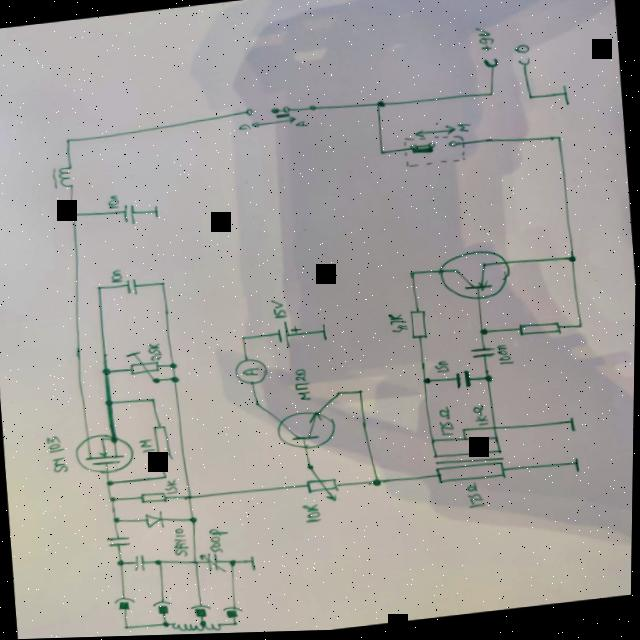capacitor: (199, 551, 231, 579), (453, 370, 475, 393), (120, 203, 137, 227), (469, 348, 496, 362), (107, 535, 132, 549), (132, 554, 148, 573), (124, 277, 138, 297)
crossover: (184, 493, 195, 503), (191, 558, 202, 567), (489, 425, 500, 434)
diode: (144, 510, 166, 532)
ground: (560, 86, 572, 110), (319, 323, 330, 344), (150, 205, 161, 220), (573, 459, 582, 477), (249, 555, 258, 573), (569, 418, 578, 435)
inductor: (50, 164, 74, 191), (170, 619, 205, 636), (203, 622, 224, 634)
junction: (100, 366, 113, 377), (371, 479, 384, 489), (565, 257, 578, 267), (167, 376, 181, 385), (305, 105, 318, 114), (112, 515, 123, 525), (66, 210, 78, 219), (116, 559, 127, 568), (153, 558, 164, 567), (374, 102, 385, 111), (483, 376, 494, 385), (188, 516, 199, 525), (479, 330, 490, 339), (107, 495, 118, 504), (104, 398, 115, 407), (421, 379, 432, 388), (168, 362, 179, 371), (228, 560, 239, 569), (552, 136, 563, 145), (105, 479, 116, 488), (333, 391, 344, 400), (524, 97, 535, 105), (161, 621, 172, 629), (575, 324, 584, 333), (199, 619, 208, 628), (356, 390, 365, 398), (231, 622, 241, 629), (161, 473, 169, 481), (239, 336, 248, 343), (95, 285, 103, 292), (124, 624, 132, 631), (408, 272, 416, 279), (149, 397, 157, 404), (63, 137, 71, 144), (158, 281, 166, 288), (485, 93, 493, 100), (253, 402, 261, 409), (460, 428, 468, 435), (378, 151, 385, 158)
resistor: (304, 463, 341, 507), (125, 348, 162, 387), (517, 320, 564, 343), (149, 423, 176, 463), (406, 309, 433, 345), (139, 490, 168, 505)
source: (275, 320, 304, 350)
switch: (398, 124, 468, 173), (240, 102, 296, 132)
terminal: (481, 57, 500, 73), (515, 60, 532, 71)
text: (44, 433, 72, 475), (463, 483, 489, 514), (436, 405, 459, 440), (292, 368, 313, 404), (171, 527, 191, 559), (208, 526, 230, 555), (473, 27, 495, 55), (300, 502, 324, 527), (494, 344, 516, 371), (266, 299, 290, 323), (431, 356, 454, 379), (386, 313, 408, 337), (471, 406, 492, 429), (105, 193, 123, 212), (138, 437, 157, 454), (146, 342, 162, 361), (108, 269, 125, 286), (164, 480, 179, 495), (454, 124, 471, 135), (513, 46, 530, 57), (235, 124, 252, 133), (293, 121, 310, 130)
transformer: (430, 433, 508, 489)
transistor: (435, 249, 514, 307), (73, 430, 137, 477), (275, 409, 339, 453)
